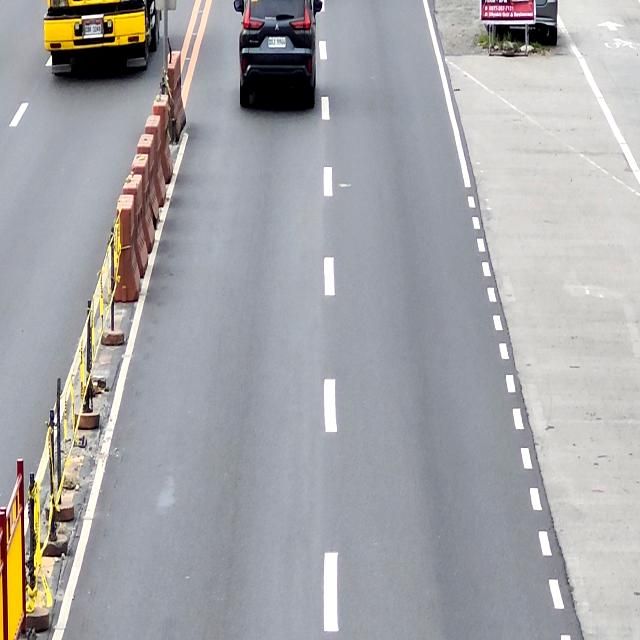Car: (233, 0, 323, 108)
License-Plate: (268, 37, 286, 48)
